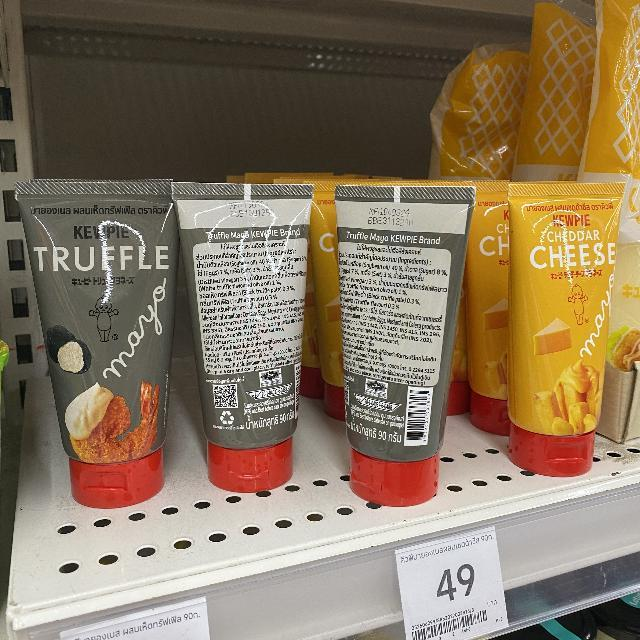Squeeze Tube: (6, 140, 617, 513)
